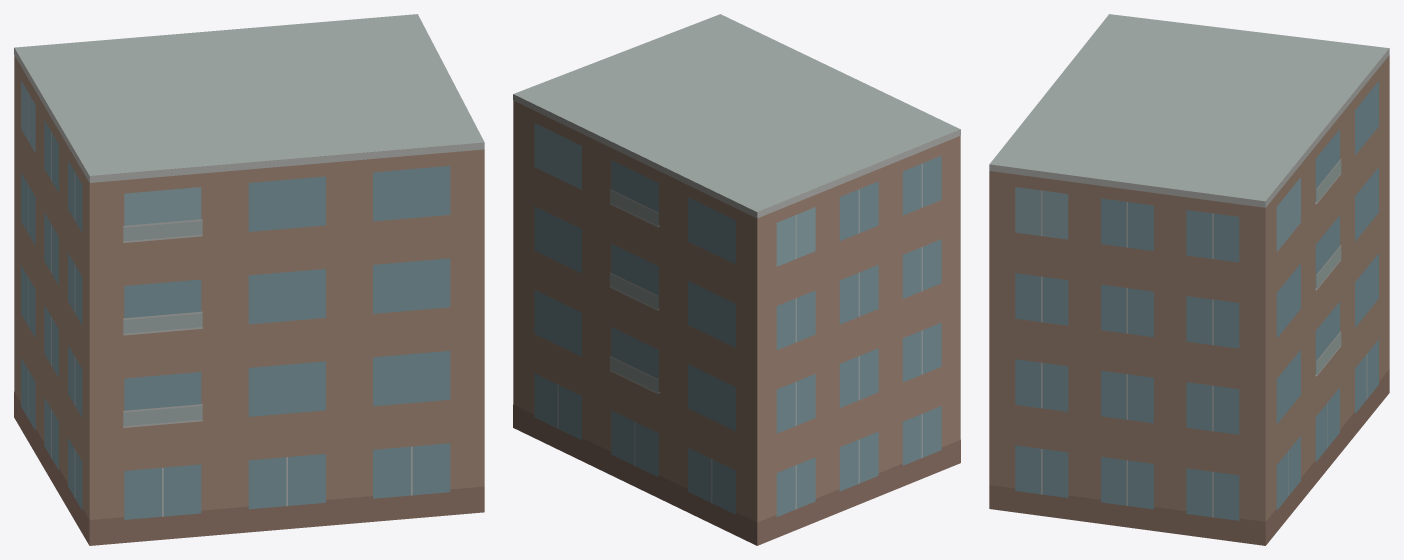
The model's file is survey-upis-32642476.glb.
3 views of the same model, side by side, from view 1: azimuth 30°, elevation 25°; view 2: azimuth 150°, elevation 25°; view 3: azimuth 270°, elevation 25° (orthographic). The views are drawn at different scales.
Visible parts, largest first — view 1: survey-upis-32642476.tmp; view 2: survey-upis-32642476.tmp; view 3: survey-upis-32642476.tmp.
Boxes of the visible parts, <box> form: survey-upis-32642476.tmp: <box>14,14,484,545</box>; survey-upis-32642476.tmp: <box>513,14,960,545</box>; survey-upis-32642476.tmp: <box>989,14,1389,545</box>.
Size of the model in its own units: 15.06 by 12.9 by 13.6.
